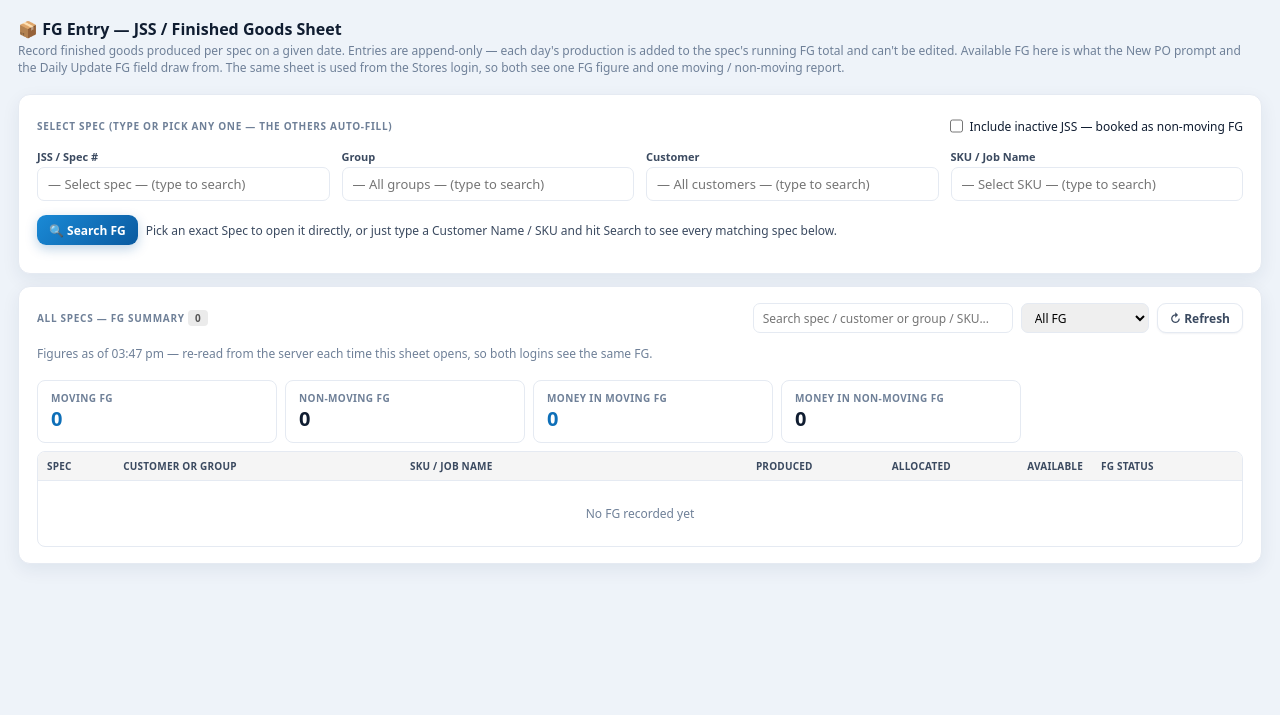
Test case: FG Entry — record production › appends a dated production entry to module 9 (fgLedger)
Expected: the text "📦 FG Entry — JSS / Finished Goods Sheet" is shown, [18,18,342,40]
Type "A1" into the field named "JSS / Spec #".
click(183, 184); type("A1")  # box [37,167,330,201]
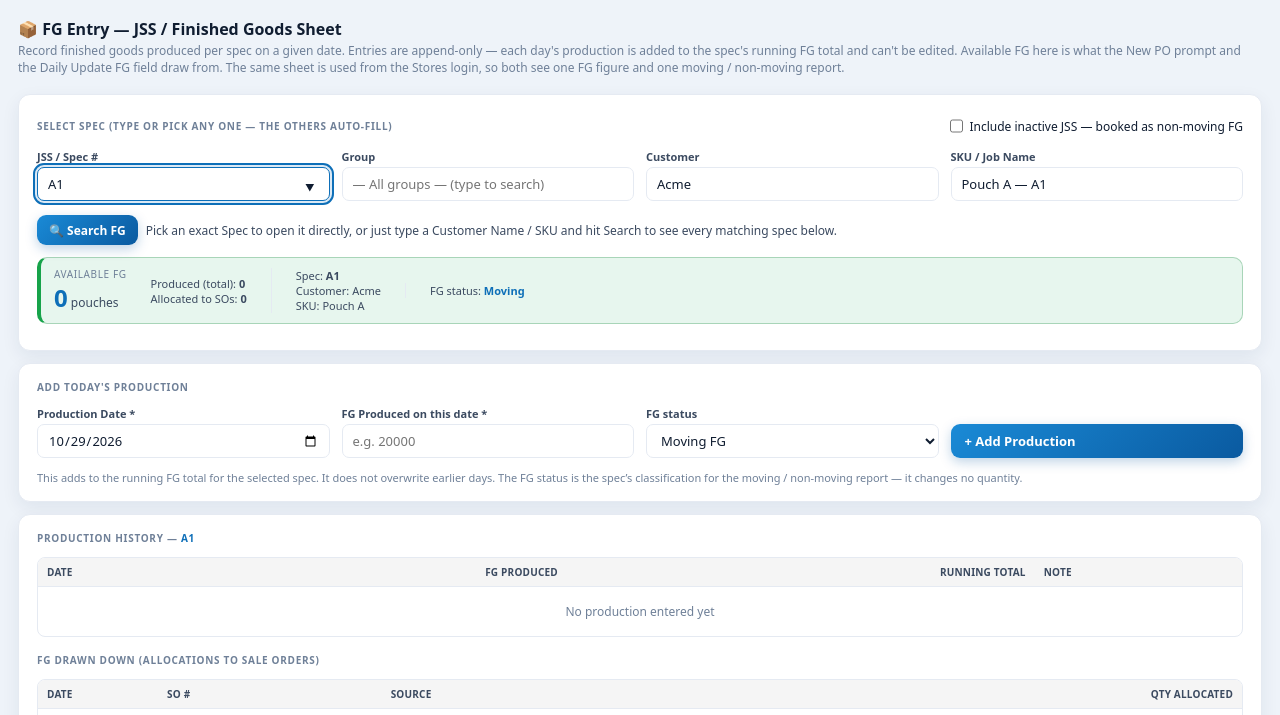
Type "20000" into the number field with placeholder "e.g. 20000".
click(488, 441); type("20000")  # box [342,424,634,458]
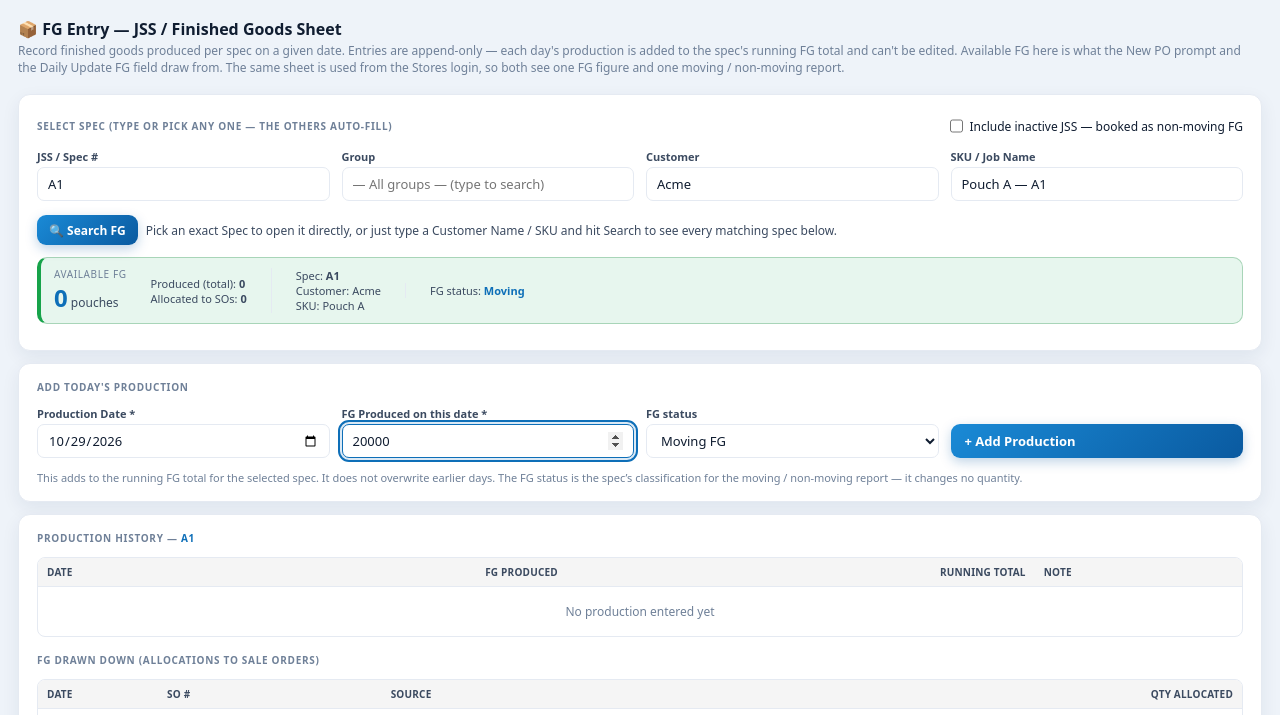
Click the button "+ Add Production".
click(1020, 441)  # box [950,424,1243,458]
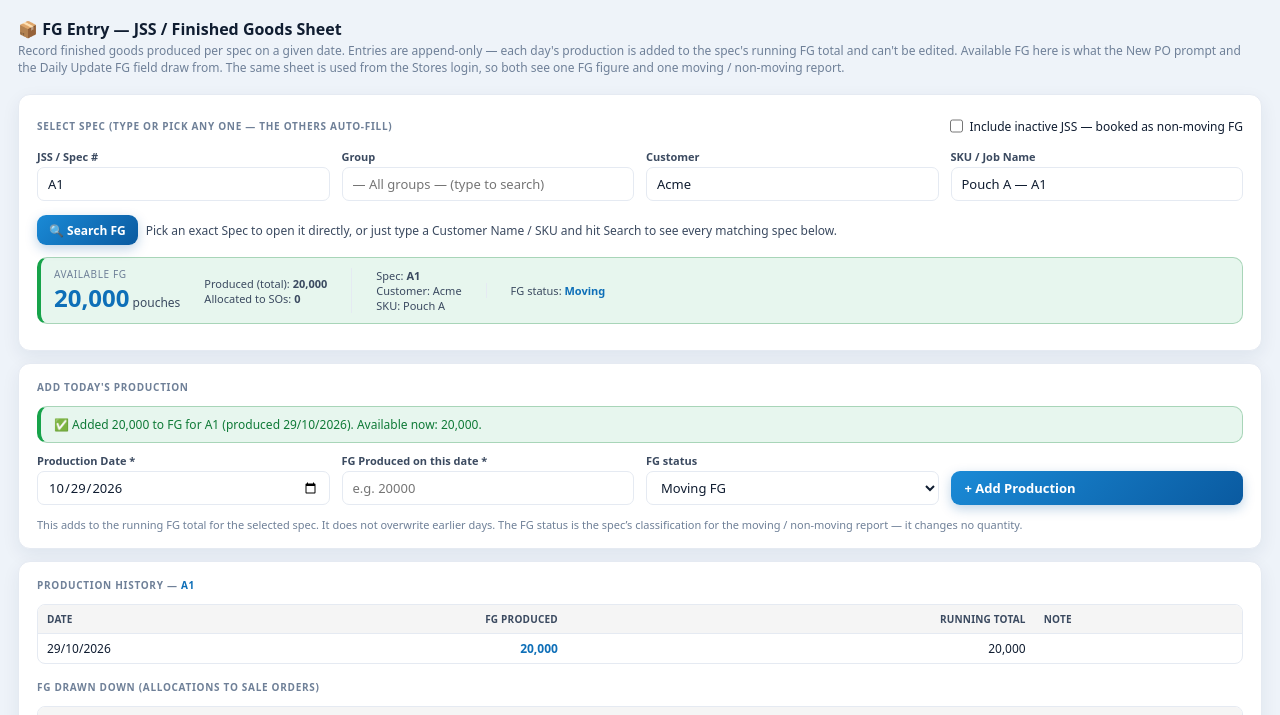
Result: the text "20,000" next to "pouches" is shown at [54,281,130,314]
